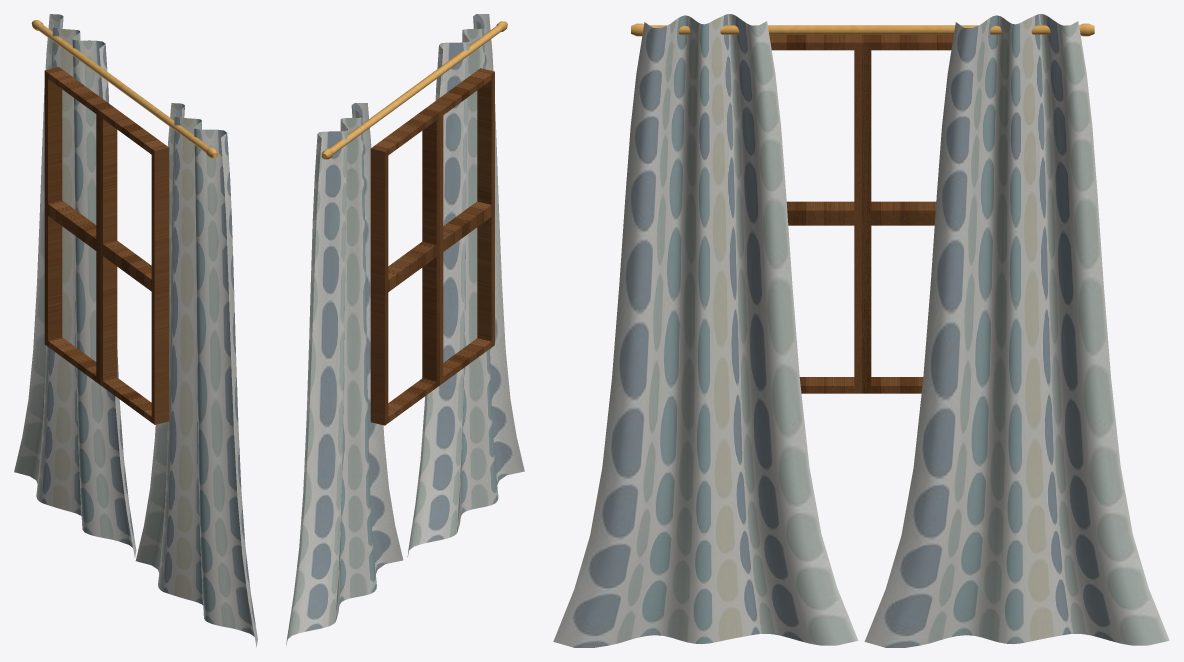
Rendered from FbxWindow_Curtains.fbx.
3 views of the same model, side by side, from view 1: azimuth 30°, elevation 25°; view 2: azimuth 150°, elevation 25°; view 3: azimuth 270°, elevation 25° (orthographic). The views are drawn at different scales.
Visible parts, largest first — view 1: Window_Curtains; view 2: Window_Curtains; view 3: Window_Curtains.
Boxes of the visible parts, <box> form: Window_Curtains: <box>14,14,257,646</box>; Window_Curtains: <box>286,14,524,645</box>; Window_Curtains: <box>553,14,1169,647</box>.
Size of the model in its own units: 0.1599 by 1.62 by 1.46.
